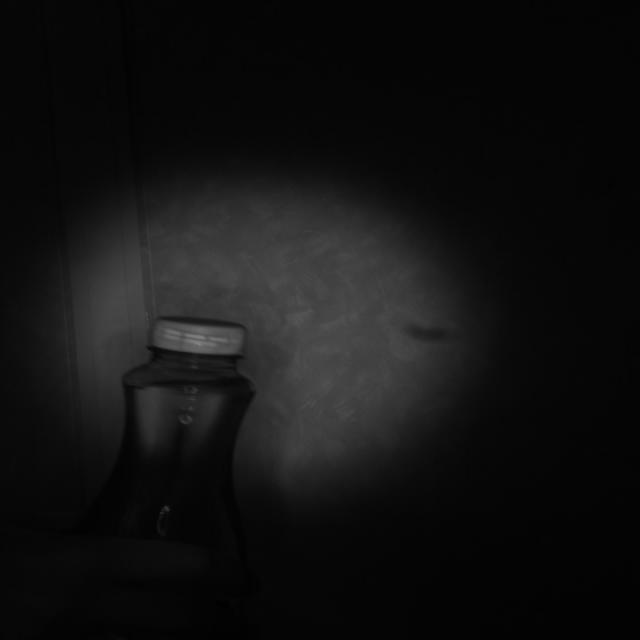Good: (143, 313, 250, 360)
